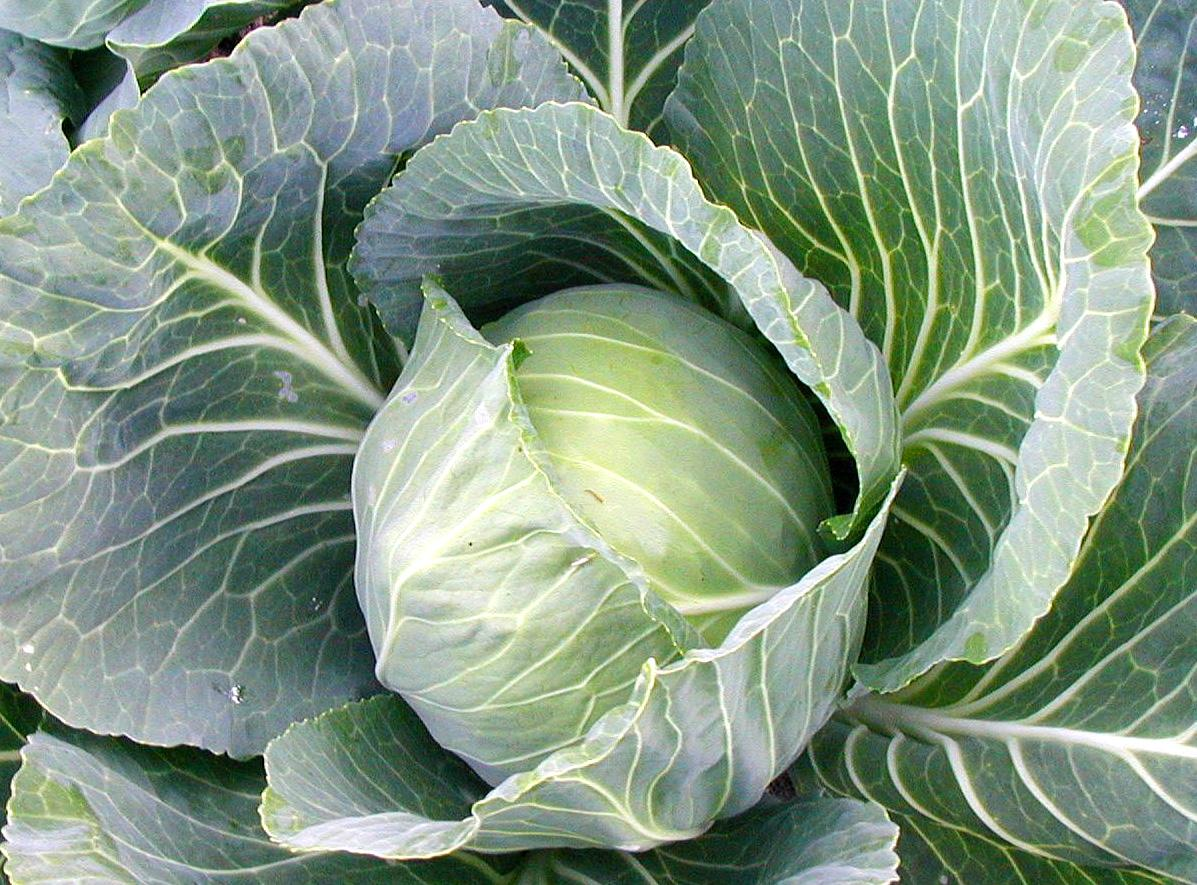cabbage: (2, 0, 1193, 883), (347, 270, 896, 851)
